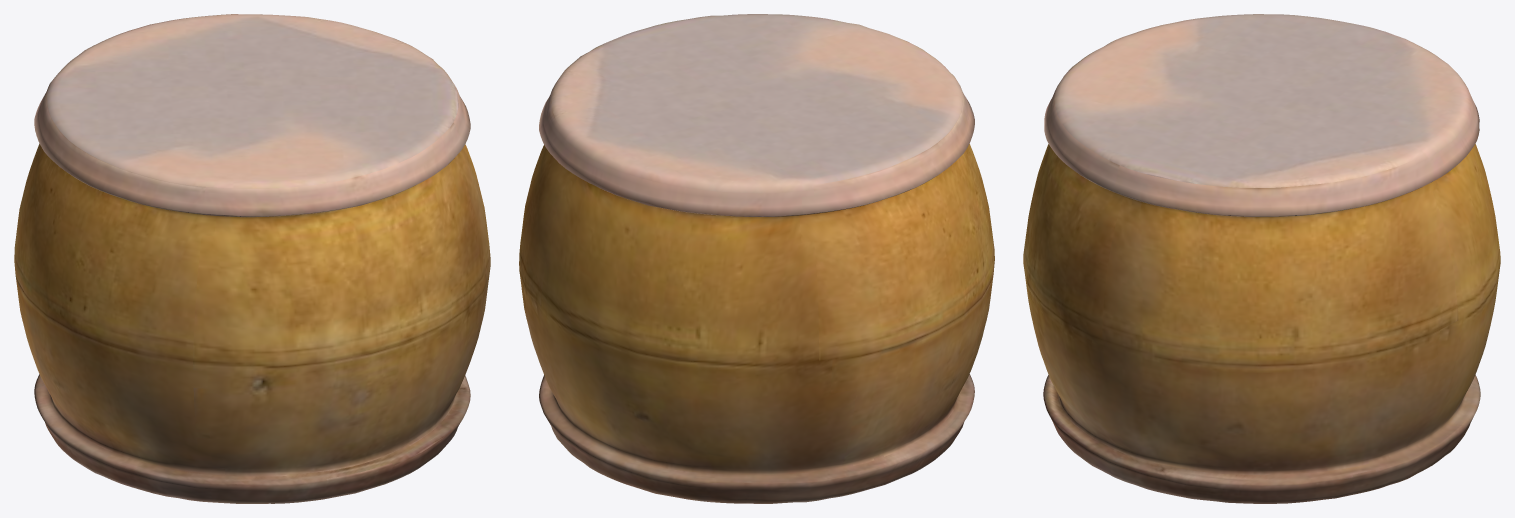
Rendered from pot_lid.glb.
3 renders of one model, left to right at view 1: azimuth 30°, elevation 25°; view 2: azimuth 150°, elevation 25°; view 3: azimuth 270°, elevation 25°, orthographic.
Parts seen in each view (by area): view 1: Mesh1_Mesh1_032; view 2: Mesh1_Mesh1_032; view 3: Mesh1_Mesh1_032.
Boxes of the visible parts, left/top/right/bottom form: Mesh1_Mesh1_032: left=14, top=14, right=490, bottom=503; Mesh1_Mesh1_032: left=519, top=14, right=994, bottom=503; Mesh1_Mesh1_032: left=1023, top=14, right=1500, bottom=503.
Bounding box in the file's own units: 1.99 × 1.48 × 1.99.
1 material, 1 textured.
